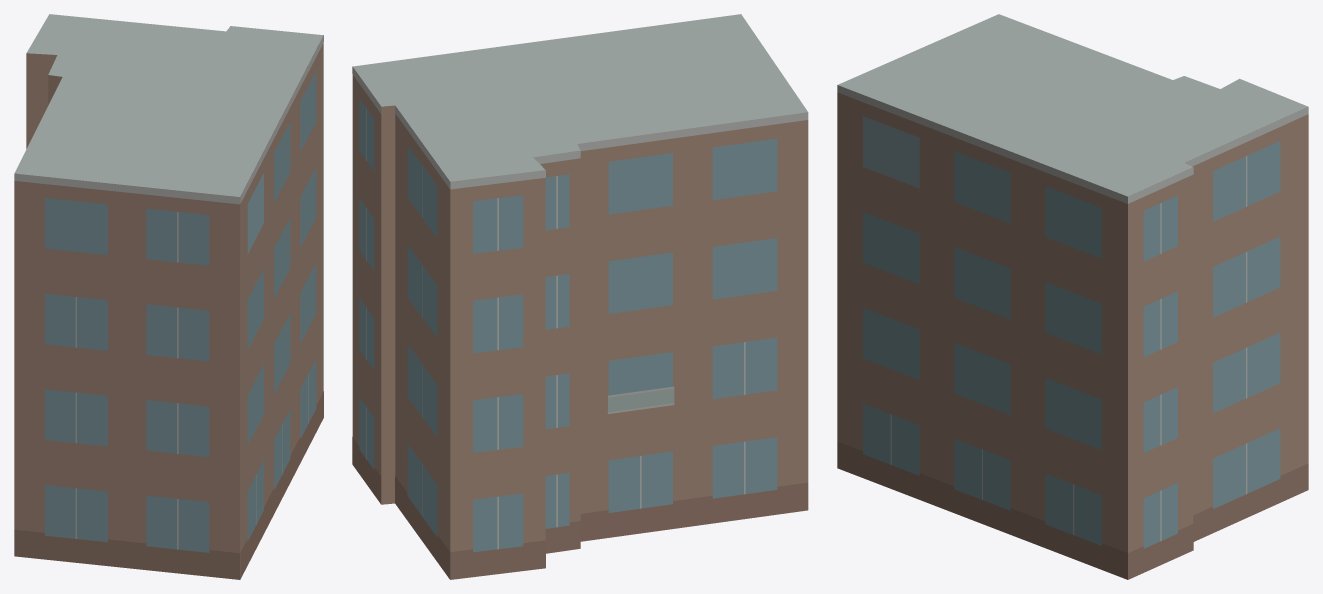
File: survey-upis-32695709.glb
The picture shows the model from 3 angles, left to right: view 1: azimuth 30°, elevation 25°; view 2: azimuth 150°, elevation 25°; view 3: azimuth 270°, elevation 25°; orthographic projection. The views are drawn at different scales.
Parts seen in each view (by area): view 1: survey-upis-32695709.tmp; view 2: survey-upis-32695709.tmp; view 3: survey-upis-32695709.tmp.
Boxes of the visible parts, x1,y1,x2,y2 form: survey-upis-32695709.tmp: (14, 14, 323, 579); survey-upis-32695709.tmp: (352, 14, 808, 579); survey-upis-32695709.tmp: (837, 14, 1308, 579).
Size of the model in its own units: 13.03 by 12.74 by 14.2.
